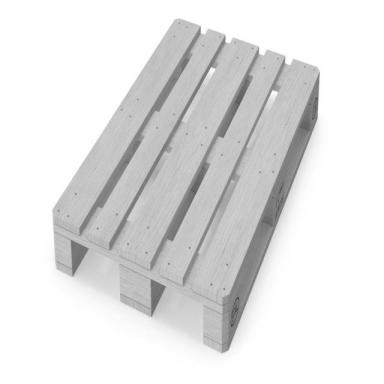pallet: (52, 18, 320, 354)
